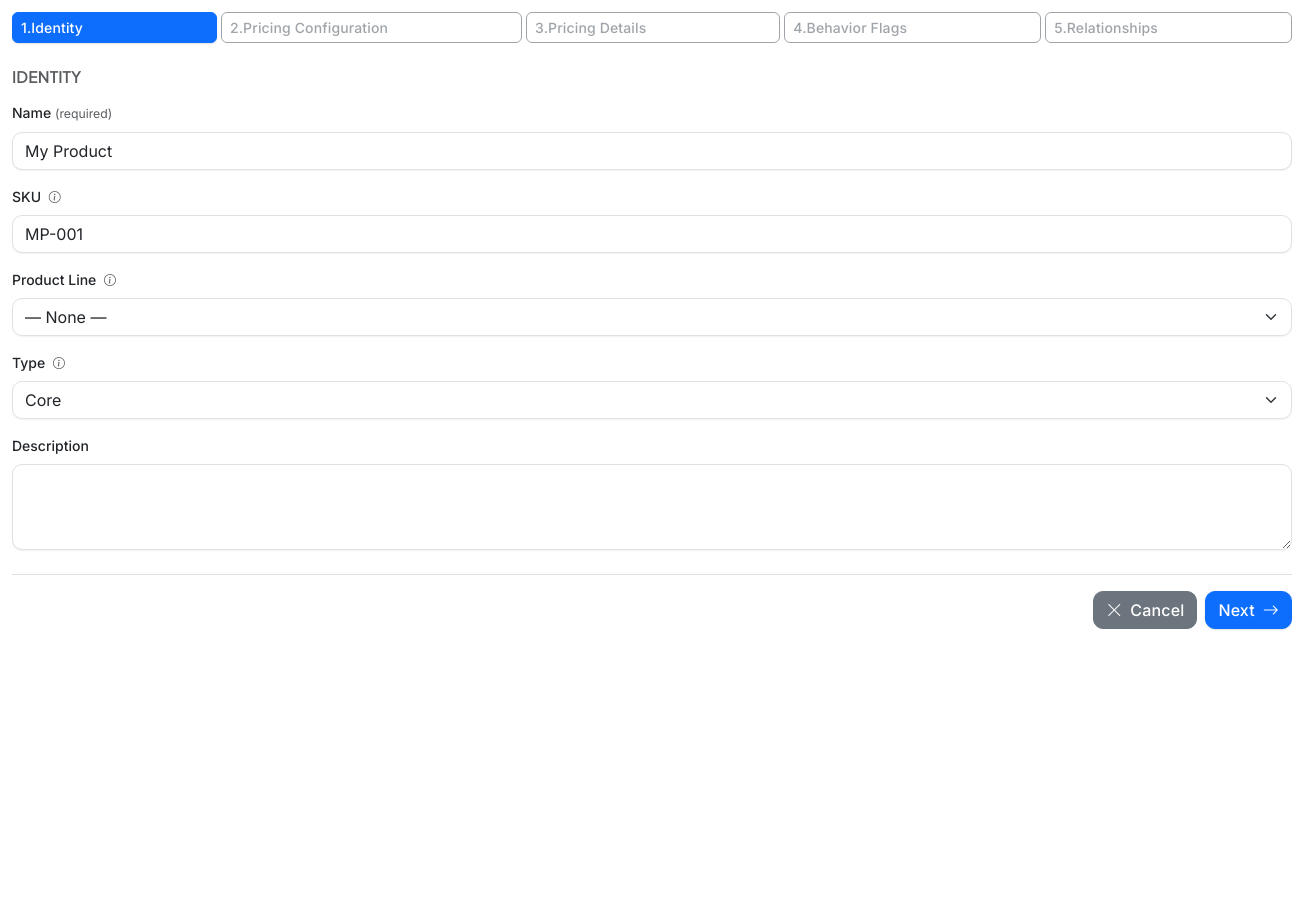
Test: ProductForm — step navigation › step nav button jumps to an already-navigated step
Click the button "Next".
click(1249, 610)  # box [1205,591,1292,629]
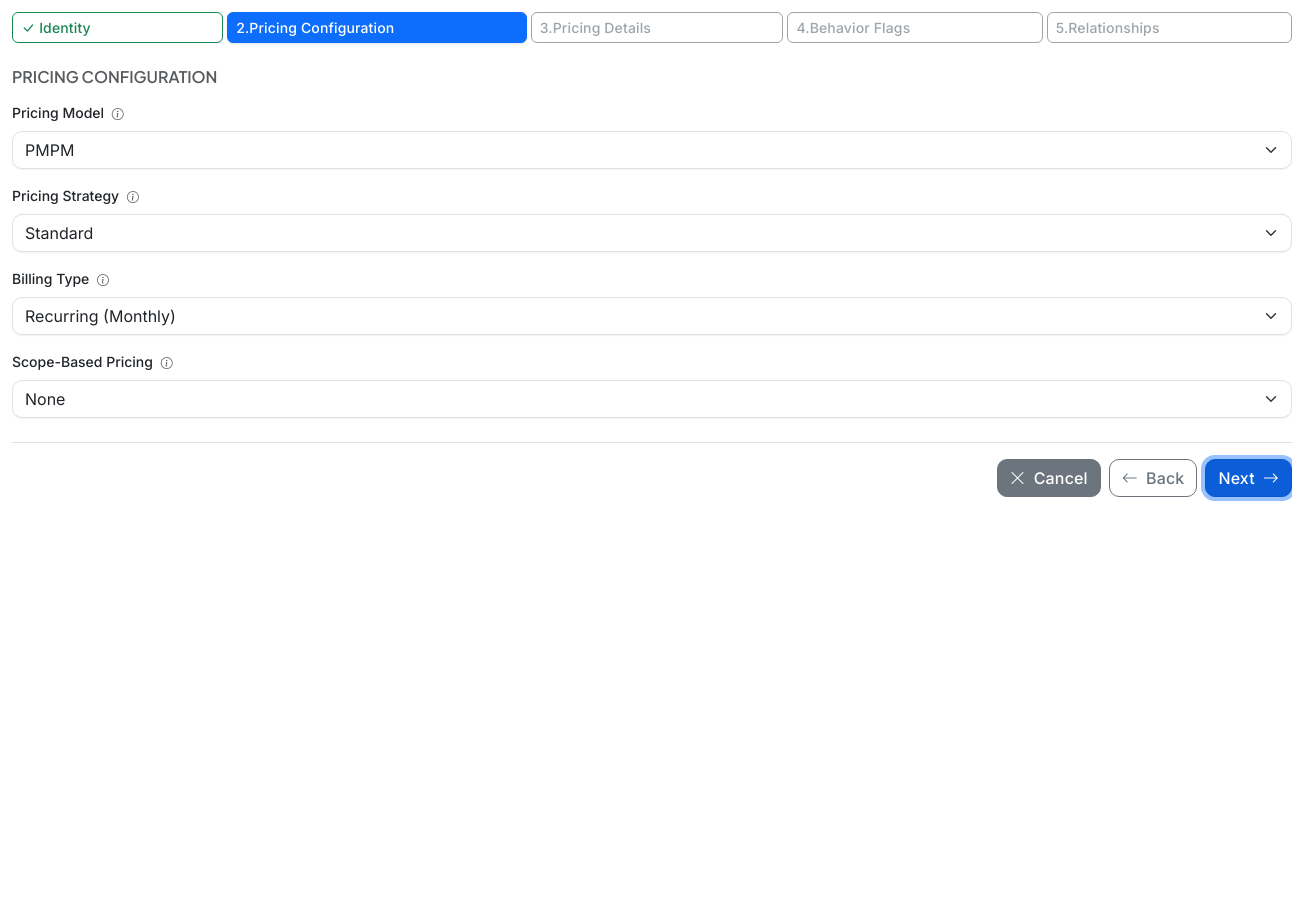
Click the button with aria-label "step 1: identity".
click(118, 28)  # box [12,12,223,43]
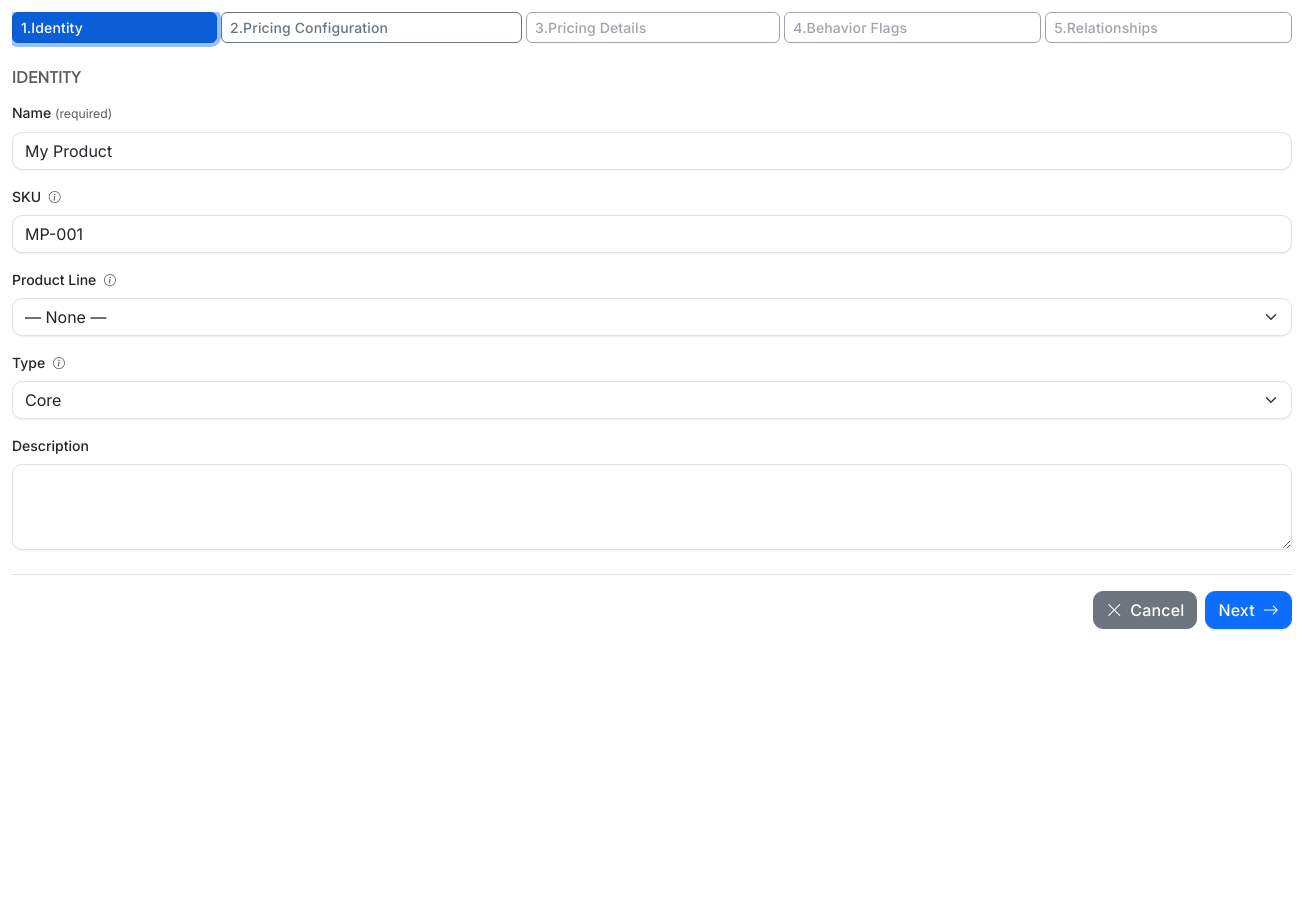
Expected: the heading "Identity" is shown, [12,66,81,87]
